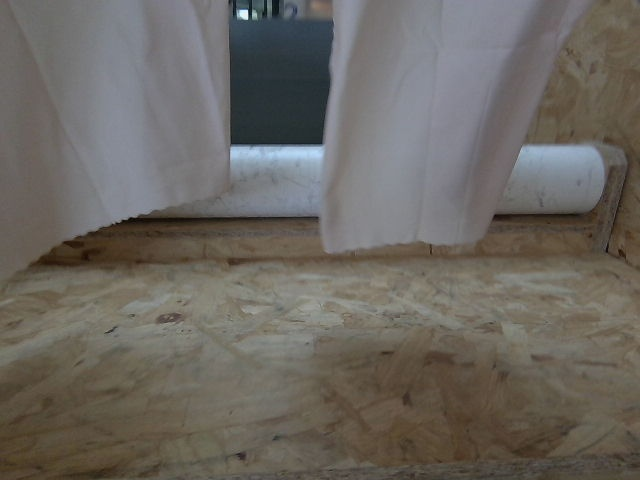curtain: (0, 0, 525, 240)
